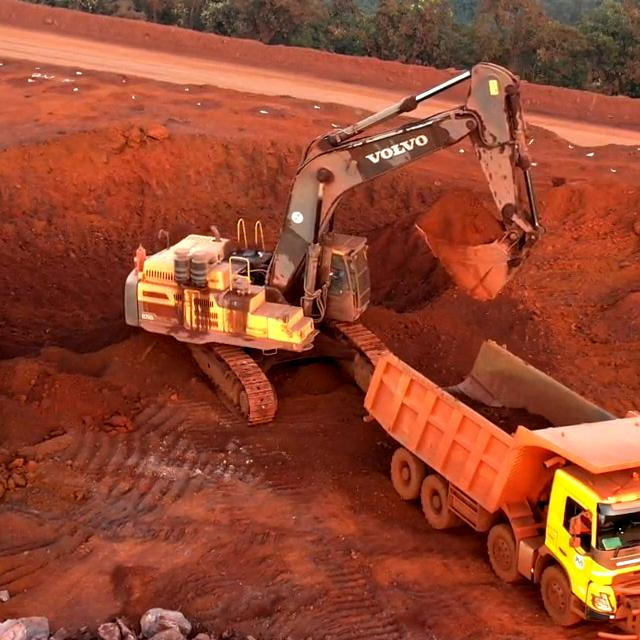Dumper truck: (507, 436, 640, 607)
Excavator: (146, 227, 381, 364)
